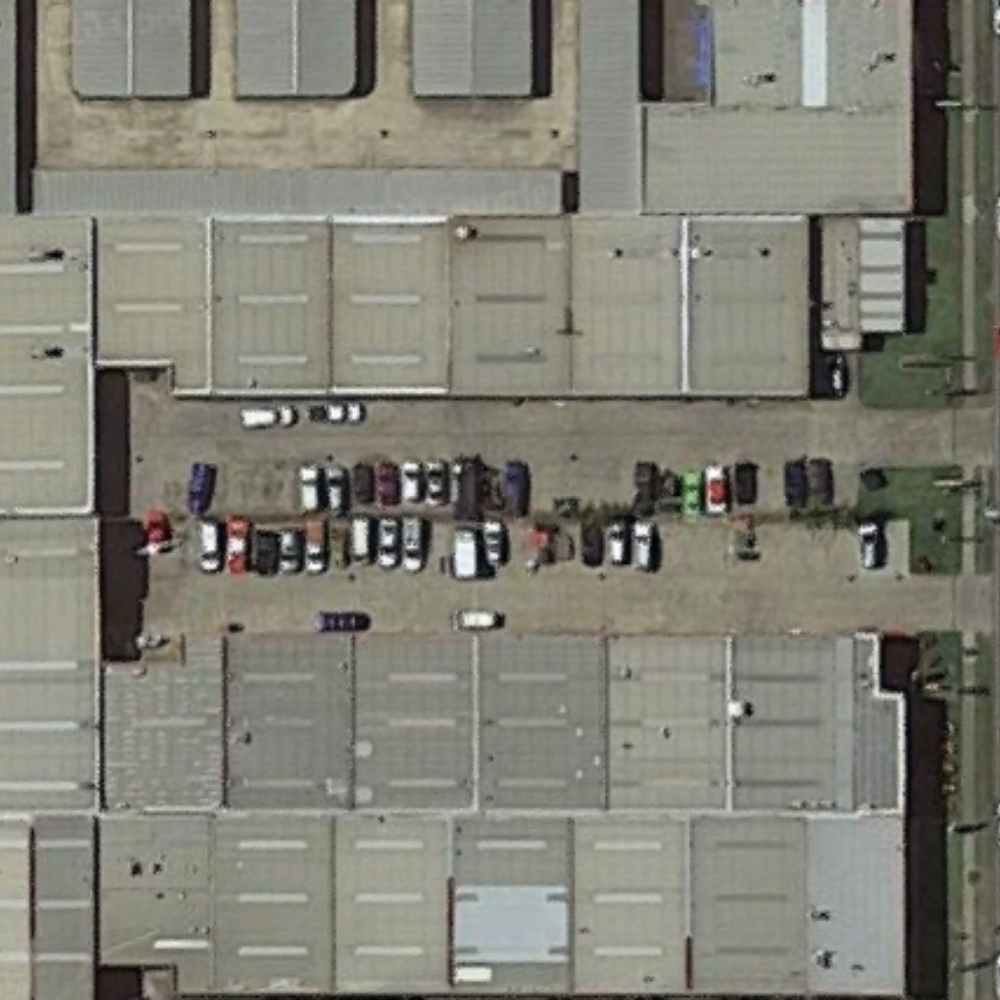parking: (95, 400, 960, 635)
